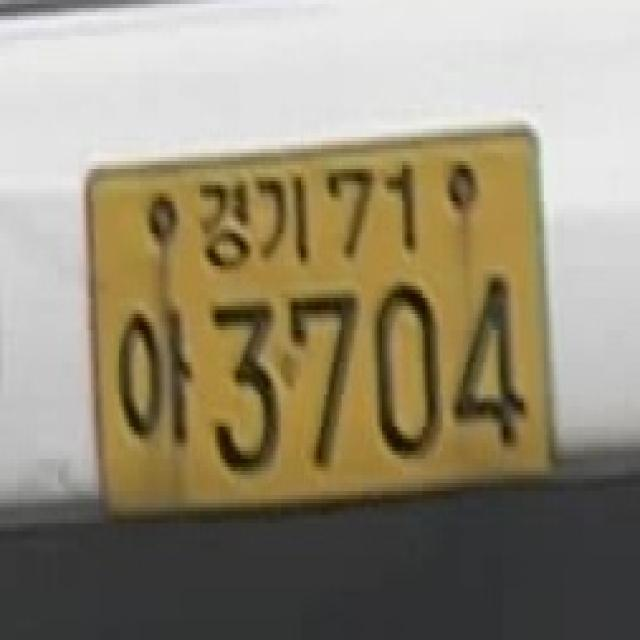plat: (83, 123, 556, 519)
